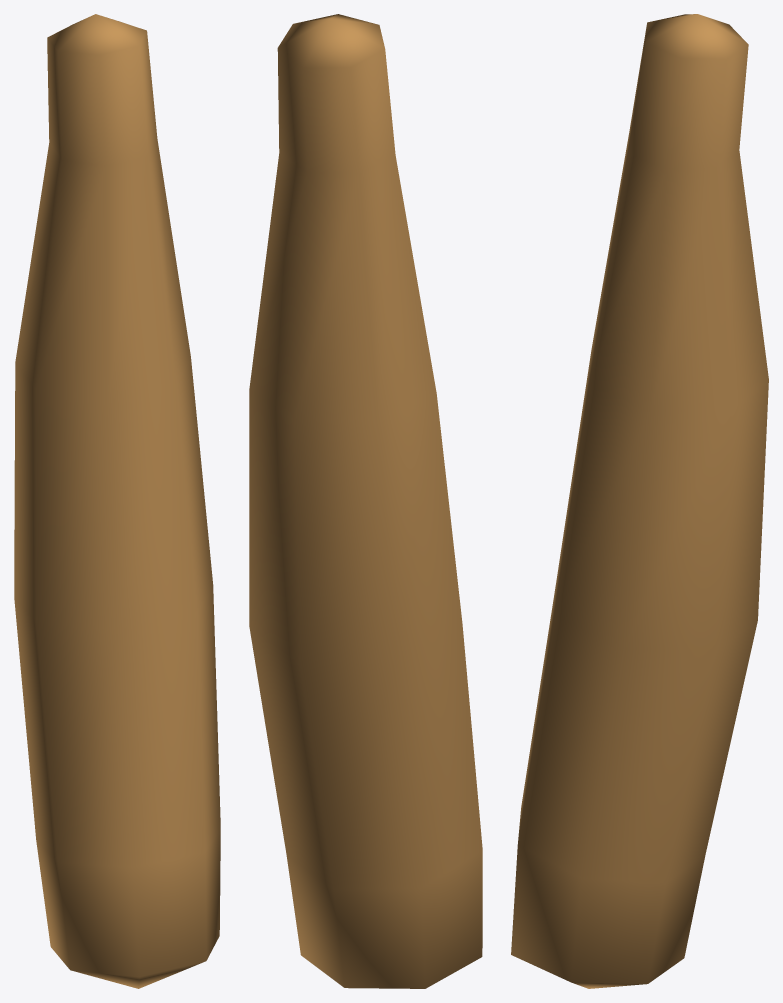
Rendered from tarsus4_T3_right_leg.obj.
3 renders of one model, left to right at view 1: azimuth 30°, elevation 25°; view 2: azimuth 150°, elevation 25°; view 3: azimuth 270°, elevation 25°, orthographic. The views are drawn at different scales.
Bounding box in the file's own units: 0.00248 × 0.0128 × 0.00305.
